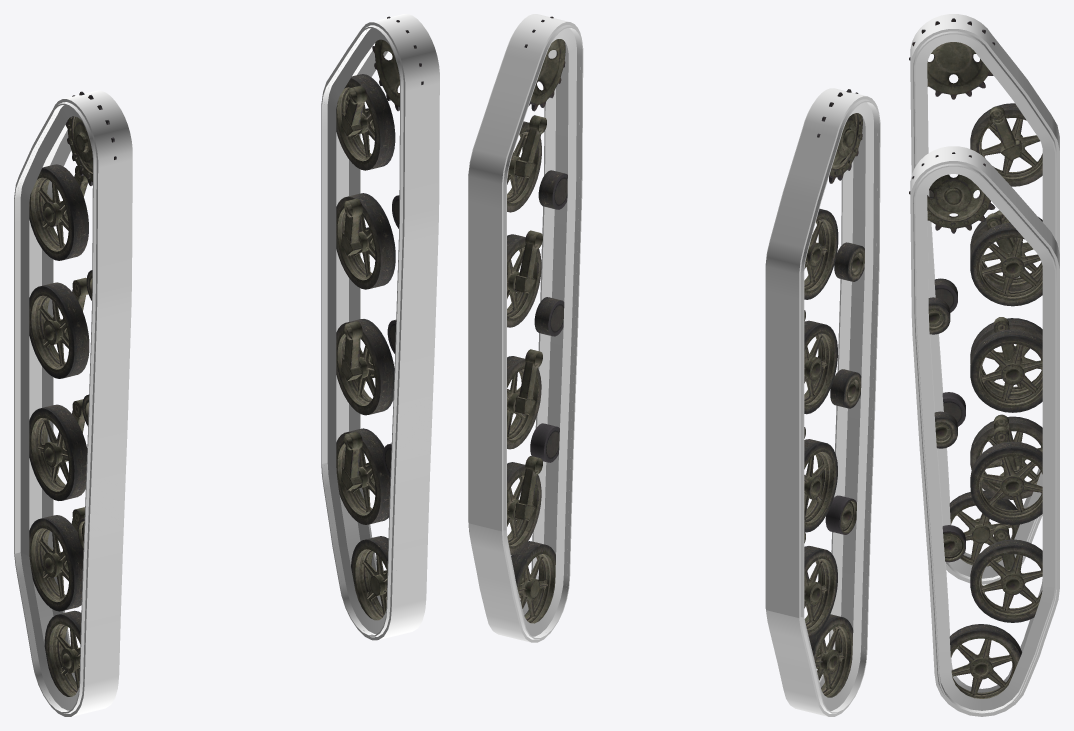
The model's file is Chassis.glb.
3 renders of one model, left to right at view 1: azimuth 30°, elevation 25°; view 2: azimuth 150°, elevation 25°; view 3: azimuth 270°, elevation 25°, orthographic. The views are drawn at different scales.
Visible parts, largest first — view 1: set_0_group_0, set_1_group_0, set_2_group_0, set_3_group_0; view 2: set_0_group_0, set_1_group_0, set_3_group_0, set_2_group_0; view 3: set_3_group_0, set_1_group_0, set_2_group_0, set_0_group_0.
Part boxes in pixels (x1=…): set_0_group_0: x1=14, y1=90, x2=132, y2=716; set_1_group_0: x1=321, y1=14, x2=439, y2=640; set_2_group_0: x1=29, y1=91, x2=116, y2=696; set_3_group_0: x1=336, y1=16, x2=423, y2=620; set_0_group_0: x1=765, y1=88, x2=880, y2=716; set_1_group_0: x1=468, y1=14, x2=583, y2=642; set_3_group_0: x1=507, y1=16, x2=567, y2=623; set_2_group_0: x1=804, y1=89, x2=864, y2=697; set_3_group_0: x1=909, y1=152, x2=1042, y2=698; set_1_group_0: x1=910, y1=146, x2=1059, y2=716; set_2_group_0: x1=909, y1=18, x2=1042, y2=566; set_0_group_0: x1=910, y1=14, x2=1059, y2=584.
Bounding box in the file's own units: 2.3 × 3.97 × 0.9711.
4 materials, 2 textured.
